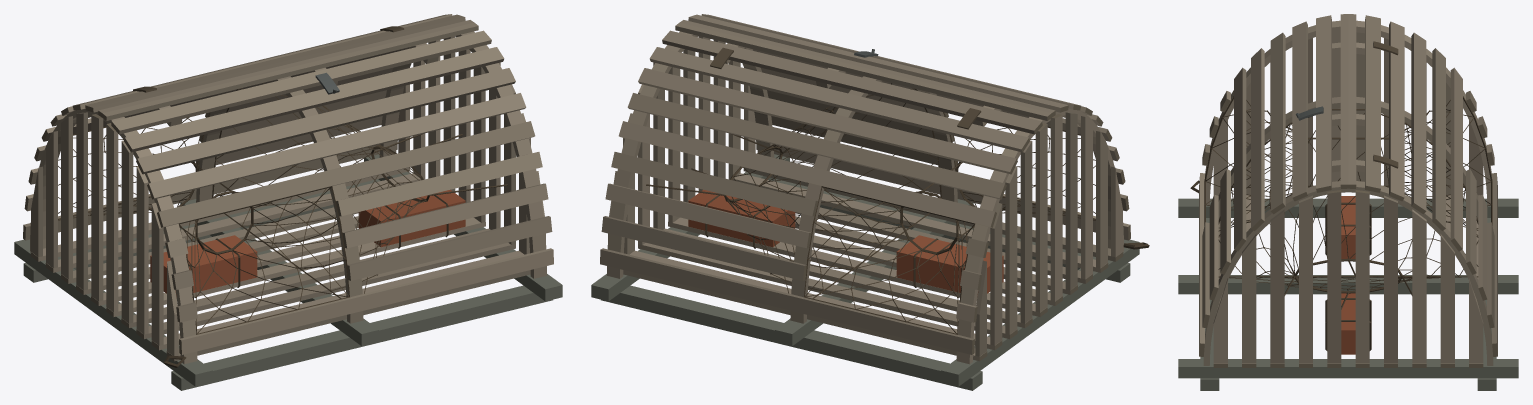
3 views of the same model, side by side, from view 1: azimuth 30°, elevation 25°; view 2: azimuth 150°, elevation 25°; view 3: azimuth 270°, elevation 25° (orthographic). The views are drawn at different scales.
Parts seen in each view (by area): view 1: Runner_1, Side_lath_13_0, Side_lath_12_0, Side_lath_14_0, Side_lath_18_0, Side_lath_11_0, Door_lath_10_0, Door_lath_09_0, Side_lath_17_1, Side_lath_16_1, Side_lath_15_1, Door_lath_08_0 (+43 smaller); view 2: Runner_2, Side_lath_05_0, Side_lath_06_0, Side_lath_04_0, Side_lath_00_0, Side_lath_07_0, Door_lath_08_0, Door_lath_09_0, Side_lath_01_1, Side_lath_02_1, Side_lath_03_1, Door_lath_10_0 (+43 smaller); view 3: Cross_sill_3, Bent_bow_3, Cross_sill_2, Door_lath_09_0, Side_lath_06_0, Side_lath_12_0, Door_lath_10_0, Side_lath_11_0, Door_lath_08_0, Side_lath_07_0, End_2_upright_05, End_2_upright_06 (+37 smaller).
Boxes of the visible parts, x1=… form: Runner_1: x1=171, y1=285, x2=552, y2=390; Side_lath_13_0: x1=147, y1=93, x2=526, y2=199; Side_lath_12_0: x1=136, y1=68, x2=515, y2=174; Side_lath_14_0: x1=157, y1=121, x2=535, y2=227; Side_lath_18_0: x1=179, y1=248, x2=553, y2=354; Side_lath_11_0: x1=124, y1=47, x2=504, y2=152; Door_lath_10_0: x1=111, y1=30, x2=491, y2=134; Door_lath_09_0: x1=98, y1=20, x2=478, y2=120; Side_lath_17_1: x1=347, y1=216, x2=552, y2=280; Side_lath_16_1: x1=342, y1=183, x2=548, y2=248; Side_lath_15_1: x1=336, y1=152, x2=542, y2=216; Door_lath_08_0: x1=85, y1=14, x2=465, y2=112; Runner_2: x1=601, y1=285, x2=982, y2=390; Side_lath_05_0: x1=627, y1=93, x2=1006, y2=199; Side_lath_06_0: x1=638, y1=68, x2=1017, y2=174; Side_lath_04_0: x1=618, y1=121, x2=996, y2=227; Side_lath_00_0: x1=600, y1=248, x2=974, y2=354; Side_lath_07_0: x1=649, y1=47, x2=1029, y2=152; Door_lath_08_0: x1=662, y1=30, x2=1042, y2=134; Door_lath_09_0: x1=675, y1=20, x2=1055, y2=120; Side_lath_01_1: x1=601, y1=216, x2=806, y2=280; Side_lath_02_1: x1=605, y1=183, x2=811, y2=248; Side_lath_03_1: x1=611, y1=152, x2=817, y2=216; Door_lath_10_0: x1=688, y1=14, x2=1068, y2=112; Cross_sill_3: x1=1178, y1=359, x2=1518, y2=378; Bent_bow_3: x1=1203, y1=181, x2=1493, y2=365; Cross_sill_2: x1=1178, y1=275, x2=1518, y2=294; Door_lath_09_0: x1=1340, y1=14, x2=1356, y2=188; Side_lath_06_0: x1=1411, y1=32, x2=1426, y2=214; Side_lath_12_0: x1=1270, y1=32, x2=1285, y2=214; Door_lath_10_0: x1=1316, y1=15, x2=1331, y2=192; Side_lath_11_0: x1=1292, y1=21, x2=1307, y2=201; Door_lath_08_0: x1=1365, y1=15, x2=1380, y2=192; Side_lath_07_0: x1=1389, y1=21, x2=1404, y2=201; End_2_upright_05: x1=1327, y1=190, x2=1341, y2=363; End_2_upright_06: x1=1355, y1=190, x2=1369, y2=363.
Bounding box in the file's own units: 0.853 × 0.459 × 0.6858.
